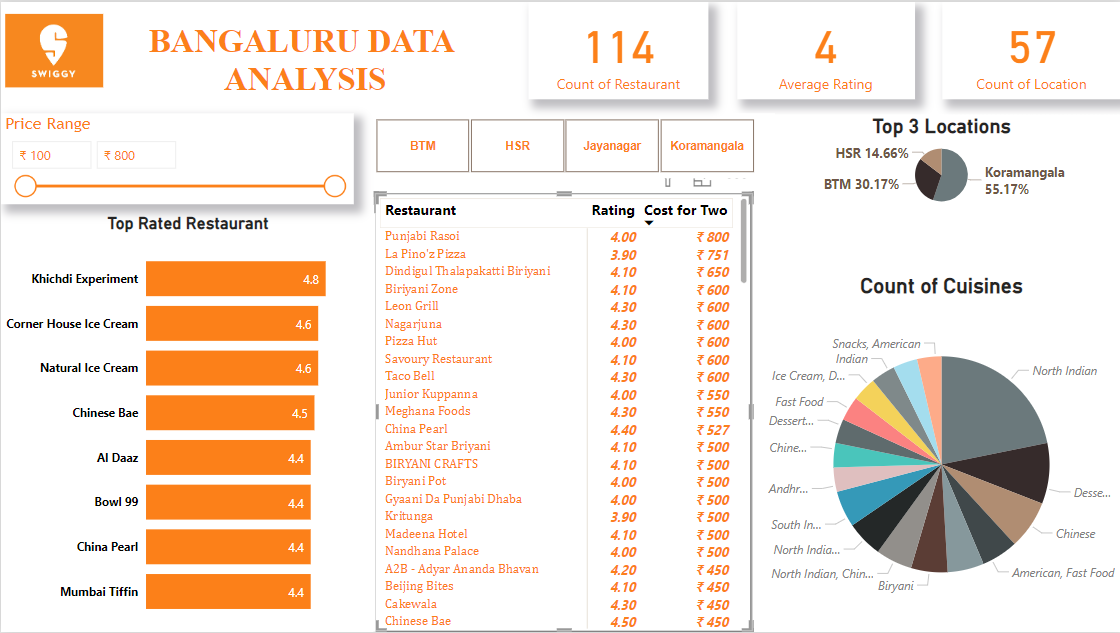

This screenshot's page, from the dashboard's own definition file:
{"tool":"powerbi","page":{"name":"Swiggy","canvas":[1280,720],"ordinal":0},"visuals":[{"type":"pivotTable","fields":{"Rows":["Swiggy Bangalore Outlet Details.Restaurant"],"Values":["Max(Swiggy Bangalore Outlet Details.Rating)","Sum(Swiggy Bangalore Outlet Details.Cost_for_Two)"]},"box":[427.8,218,430.5,501.8],"z":0},{"type":"card","fields":{"Values":["Swiggy Bangalore Outlet Details.Average Rating"]},"box":[841.8,0,202.9,111.1],"z":1000},{"type":"card","fields":{"Values":["Count(Swiggy Bangalore Outlet Details.Location)"]},"box":[1076.3,0,204.3,111.1],"z":2000},{"type":"slicer","fields":{"Values":["Swiggy Bangalore Outlet Details.Area"]},"box":[403.1,127.5,481.2,74],"z":3000},{"type":"card","fields":{"Values":["Count(Swiggy Bangalore Outlet Details.Restaurant)"]},"box":[603.3,0,205.7,111.1],"z":4000},{"type":"barChart","title":"Top Rated Restaurant","fields":{"Category":["Swiggy Bangalore Outlet Details.Restaurant"],"Y":["Max(Swiggy Bangalore Outlet Details.Rating)"]},"box":[0,241.3,427.8,478.5],"z":5000},{"type":"pieChart","title":"Top 3 Locations","fields":{"Category":["Swiggy Bangalore Outlet Details.Area"],"Y":["CountNonNull(Swiggy Bangalore Outlet Details.Area)"]},"box":[870.6,128.9,409.9,112.4],"z":6000},{"type":"pieChart","title":"Count of Cuisines","fields":{"Category":["Swiggy Bangalore Outlet Details.Cuisine"],"Y":["CountNonNull(Swiggy Bangalore Outlet Details.Cuisine)"]},"box":[870.6,309.9,409.9,409.9],"z":7000},{"type":"image","box":[0,0,122,111.1],"z":8000},{"type":"textbox","box":[122,0,452.4,127.5],"z":9000},{"type":"slicer","title":"Price Range","fields":{"Values":["Swiggy Bangalore Outlet Details.Cost_for_Two"]},"box":[0,127.5,403.1,104.2],"z":10000}]}

Visuals, with their boxes in screenshot pixels (x1, y1, x2, y2), scaled from the page's 1280x720 canvas onto the 1120x633 screenshot:
pivotTable - Swiggy Bangalore Outlet Details.Restaurant x Max(Swiggy Bangalore Outlet Details.Rating): region(374, 192, 751, 632)
card - Swiggy Bangalore Outlet Details.Average Rating: region(737, 0, 914, 98)
card - Count(Swiggy Bangalore Outlet Details.Location): region(942, 0, 1119, 98)
slicer - Swiggy Bangalore Outlet Details.Area: region(353, 112, 774, 177)
card - Count(Swiggy Bangalore Outlet Details.Restaurant): region(528, 0, 708, 98)
"Top Rated Restaurant" barChart: region(0, 212, 374, 632)
"Top 3 Locations" pieChart: region(762, 113, 1119, 212)
"Count of Cuisines" pieChart: region(762, 272, 1119, 632)
image: region(0, 0, 107, 98)
textbox: region(107, 0, 503, 112)
"Price Range" slicer: region(0, 112, 353, 204)
